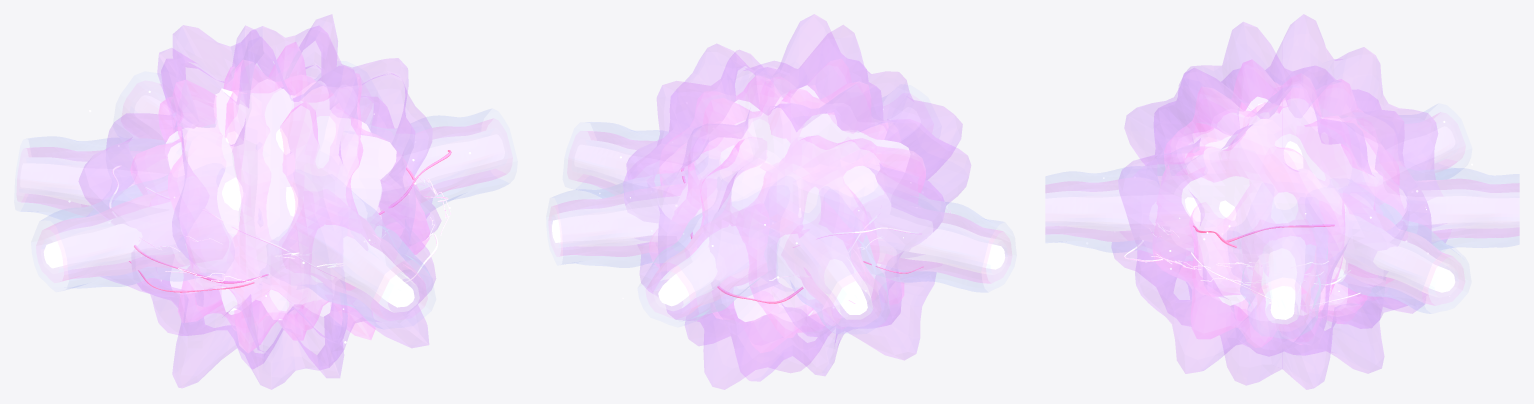
File: REACTOR_CORE_MANYETIK_01.glb
3 renders of one model, left to right at view 1: azimuth 30°, elevation 25°; view 2: azimuth 150°, elevation 25°; view 3: azimuth 270°, elevation 25°, orthographic. The views are drawn at different scales.
Parts seen in each view (by area): view 1: CENTER__VIOLET_VAPOR, CENTER__FUCHSIA_CORE, CENTER__WHITE_CORE, LOWER_LEFT__WHITE_RAY, LEFT__WHITE_RAY, TOP__WHITE_RAY, RIGHT__WHITE_RAY, LEFT__PINK_RAY, TOP__PINK_RAY, BOTTOM__WHITE_RAY, RIGHT__PINK_RAY, RIGHT__BLUE_RAY (+12 smaller); view 2: CENTER__VIOLET_VAPOR, CENTER__WHITE_CORE, CENTER__FUCHSIA_CORE, LOWER_RIGHT__WHITE_RAY, LEFT__WHITE_RAY, BOTTOM__WHITE_RAY, RIGHT__WHITE_RAY, LOWER_LEFT__WHITE_RAY, LOWER_RIGHT__PINK_RAY, LEFT__PINK_RAY, LOWER_RIGHT__BLUE_RAY, LEFT__BLUE_RAY (+10 smaller); view 3: CENTER__VIOLET_VAPOR, CENTER__FUCHSIA_CORE, CENTER__WHITE_CORE, TOP__WHITE_RAY, BOTTOM__WHITE_RAY, LOWER_RIGHT__WHITE_RAY, RIGHT__WHITE_RAY, LOWER_LEFT__WHITE_RAY, BOTTOM__PINK_RAY, TOP__PINK_RAY, TOP__BLUE_RAY, BOTTOM__BLUE_RAY (+7 smaller).
Part boxes in pixels (x1,y1,x2,y2): CENTER__VIOLET_VAPOR: (78,14,440,389); CENTER__FUCHSIA_CORE: (130,42,429,352); CENTER__WHITE_CORE: (164,79,396,320); LOWER_LEFT__WHITE_RAY: (20,163,177,209); LEFT__WHITE_RAY: (43,209,187,268); TOP__WHITE_RAY: (303,224,414,307); RIGHT__WHITE_RAY: (381,134,504,191); LEFT__PINK_RAY: (44,190,183,280); TOP__PINK_RAY: (311,216,423,319); BOTTOM__WHITE_RAY: (134,95,196,141); RIGHT__PINK_RAY: (420,119,505,199); RIGHT__BLUE_RAY: (427,109,508,207); CENTER__VIOLET_VAPOR: (623,14,970,389); CENTER__WHITE_CORE: (676,85,910,322); CENTER__FUCHSIA_CORE: (649,59,925,352); LOWER_RIGHT__WHITE_RAY: (552,201,702,242); LEFT__WHITE_RAY: (865,213,1005,269); BOTTOM__WHITE_RAY: (658,227,762,306); RIGHT__WHITE_RAY: (574,144,690,196); LOWER_LEFT__WHITE_RAY: (799,228,867,314); LOWER_RIGHT__PINK_RAY: (553,185,671,256); LEFT__PINK_RAY: (880,213,1002,282); LOWER_RIGHT__BLUE_RAY: (554,183,652,267); LEFT__BLUE_RAY: (900,202,1002,291); CENTER__VIOLET_VAPOR: (1112,14,1447,389); CENTER__FUCHSIA_CORE: (1153,59,1404,347); CENTER__WHITE_CORE: (1170,83,1402,321); TOP__WHITE_RAY: (1045,194,1193,226); BOTTOM__WHITE_RAY: (1385,193,1519,225); LOWER_RIGHT__WHITE_RAY: (1347,220,1455,292); RIGHT__WHITE_RAY: (1264,241,1297,319); LOWER_LEFT__WHITE_RAY: (1383,126,1455,181); BOTTOM__PINK_RAY: (1422,179,1518,239); TOP__PINK_RAY: (1046,176,1161,241); TOP__BLUE_RAY: (1046,168,1136,252); BOTTOM__BLUE_RAY: (1435,168,1518,247).
Bounding box in the file's own units: 14.72 × 11.23 × 14.72.
